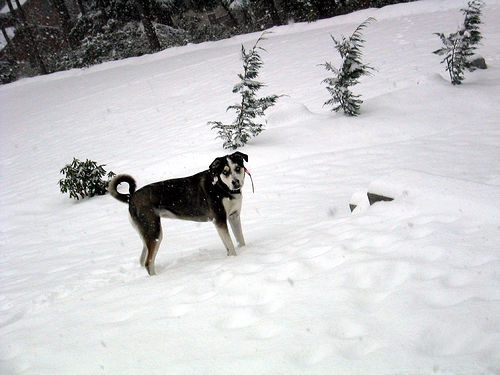dog: (107, 151, 248, 279)
